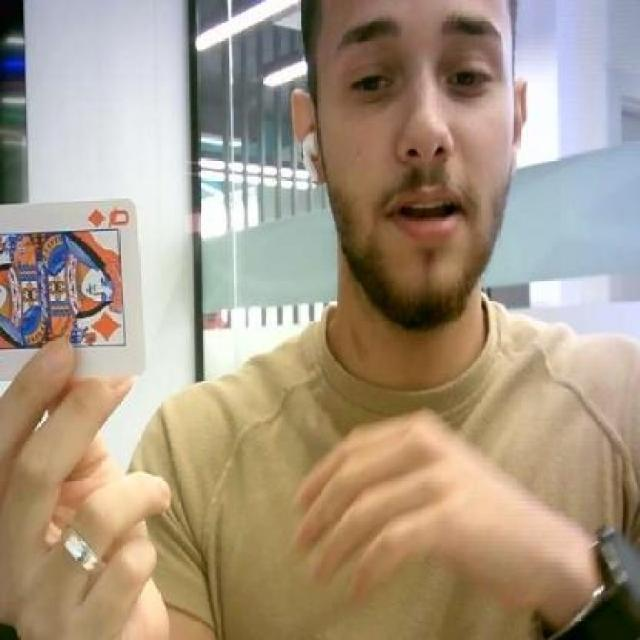QD: (84, 206, 131, 228)
